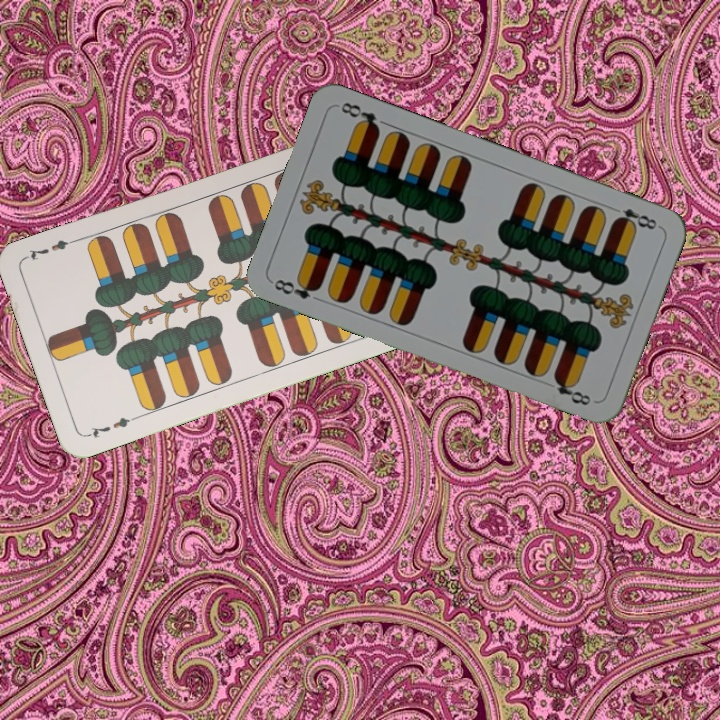E7: (83, 412, 140, 441)
E8: (610, 204, 663, 233), (270, 274, 324, 302)
